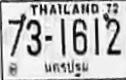1: (60, 18, 65, 56), (93, 18, 98, 56)
2: (105, 18, 120, 54)
3: (26, 19, 41, 55)
6: (72, 18, 86, 54)
7: (8, 18, 26, 55)
NPT: (41, 57, 91, 78)
